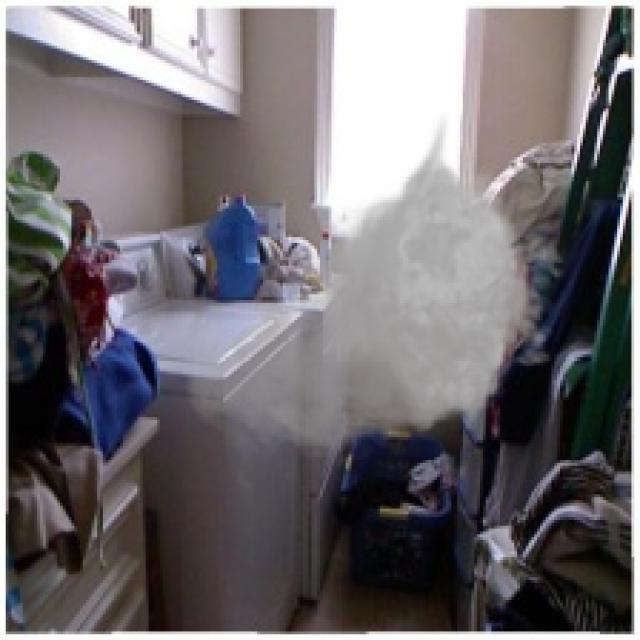Smoke: (180, 111, 577, 468)
